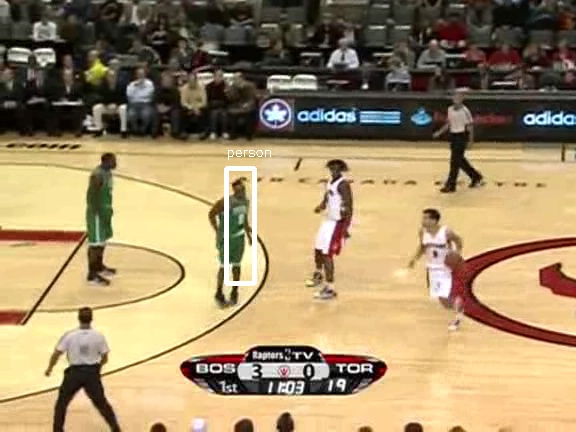person: (221, 191, 255, 272), (220, 191, 254, 272), (222, 191, 256, 272), (221, 190, 255, 271), (221, 192, 255, 273)
target_negative: (151, 76, 549, 150), (89, 325, 284, 425), (17, 142, 571, 150), (276, 194, 419, 211), (36, 34, 423, 39), (233, 385, 274, 422)
